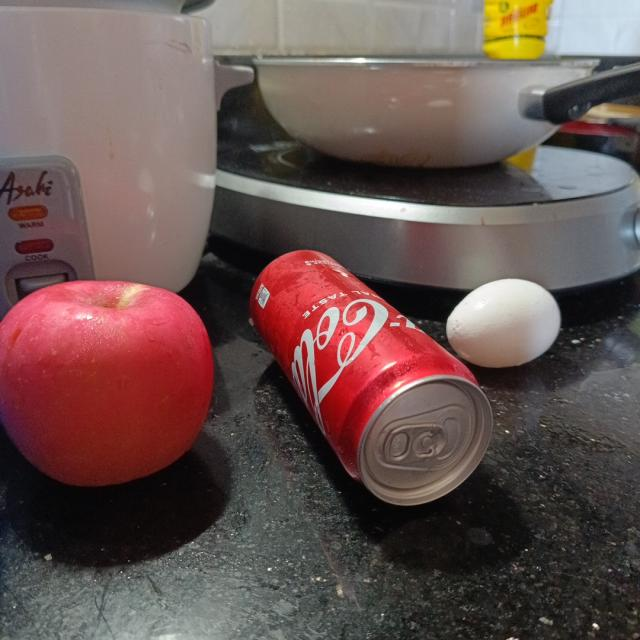apple: (0, 280, 216, 484)
coke: (253, 249, 491, 510)
egg: (449, 279, 560, 366)
